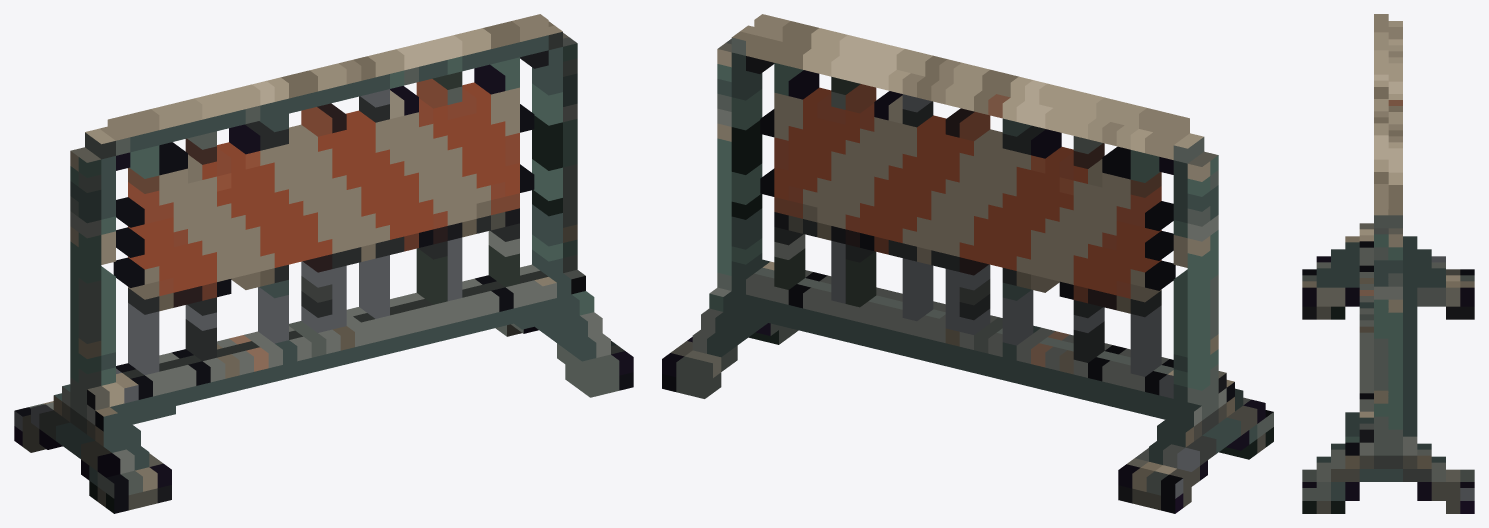
Rendered from city_crowd_barrier.glb.
The picture shows the model from 3 angles, left to right: view 1: azimuth 30°, elevation 25°; view 2: azimuth 150°, elevation 25°; view 3: azimuth 270°, elevation 25°; orthographic projection. The views are drawn at different scales.
Visible parts, largest first — view 1: city_crowd_barrier; view 2: city_crowd_barrier; view 3: city_crowd_barrier.
Part boxes in pixels (x1=…): city_crowd_barrier: x1=14, y1=14, x2=633, y2=513; city_crowd_barrier: x1=662, y1=14, x2=1273, y2=513; city_crowd_barrier: x1=1302, y1=14, x2=1474, y2=513.
Bounding box in the file's own units: 1.12 × 0.7188 × 0.375.
